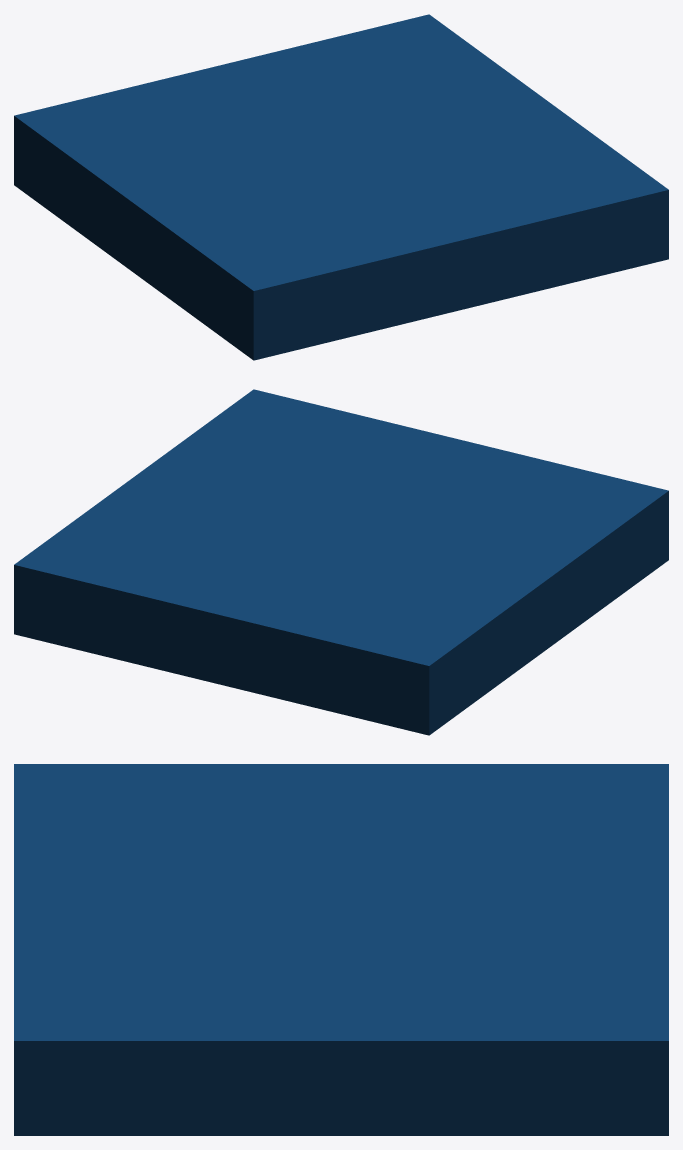
File: tile_deep_water.glb
The picture shows the model from 3 angles, top to bottom: view 1: azimuth 30°, elevation 25°; view 2: azimuth 150°, elevation 25°; view 3: azimuth 270°, elevation 25°; orthographic projection. The views are drawn at different scales.
Visible parts, largest first — view 1: tile_deep_water; view 2: tile_deep_water; view 3: tile_deep_water.
Boxes of the visible parts, x1,y1,x2,y2 form: tile_deep_water: [14, 14, 668, 360]; tile_deep_water: [14, 389, 668, 735]; tile_deep_water: [14, 764, 668, 1135].
Size of the model in its own units: 1 by 0.16 by 1.
